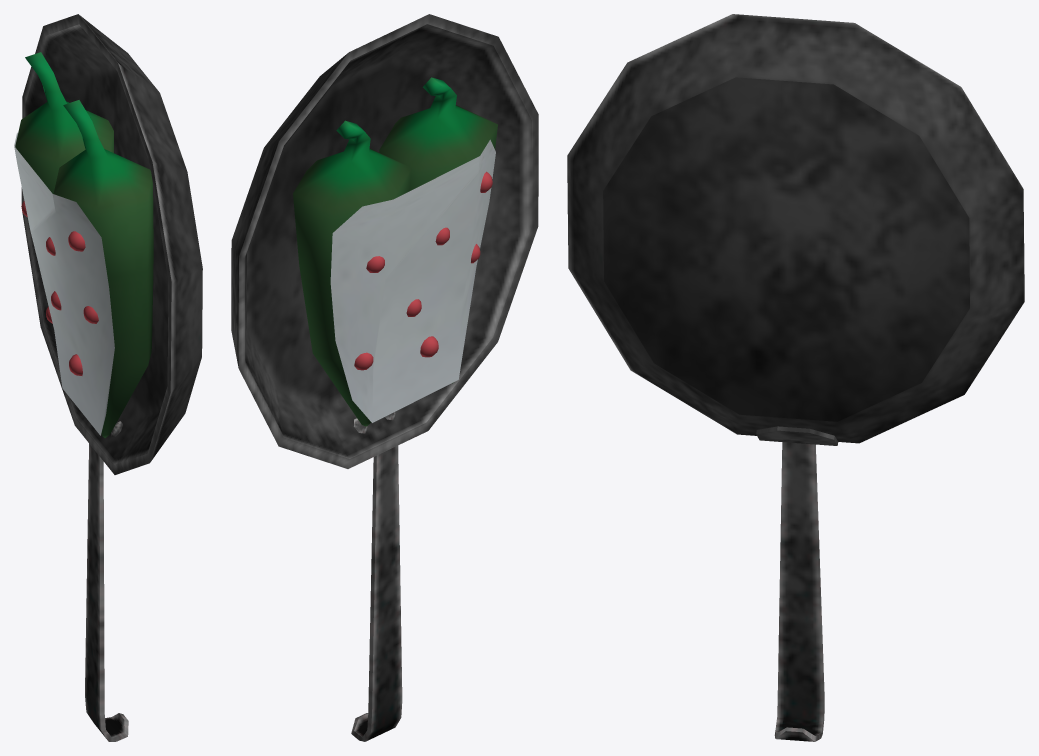
The model's file is AL_ChileNogadaForged_Static.fbx.
The picture shows the model from 3 angles, left to right: view 1: azimuth 30°, elevation 25°; view 2: azimuth 150°, elevation 25°; view 3: azimuth 270°, elevation 25°; orthographic projection. The views are drawn at different scales.
Parts seen in each view (by area): view 1: FryingPan_Forged_Hand; view 2: FryingPan_Forged_Hand; view 3: FryingPan_Forged_Hand.
Part boxes in pixels (x1,y1,x2,y2): FryingPan_Forged_Hand: (14,14,202,741); FryingPan_Forged_Hand: (231,14,538,741); FryingPan_Forged_Hand: (567,14,1024,741).
Size of the model in its own units: 0.3792 by 0.6517 by 0.1355.
